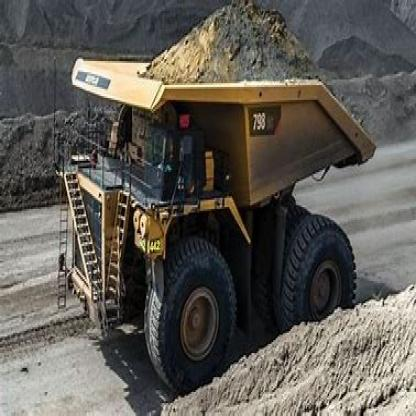dump_truck: (54, 4, 384, 399)
